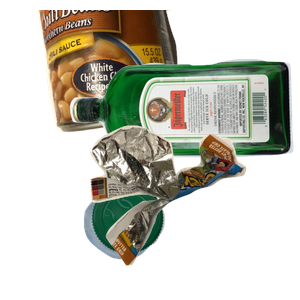glass: (67, 56, 300, 206)
metal: (34, 10, 213, 135)
plastic: (81, 179, 239, 300)
trash: (88, 123, 300, 300)
